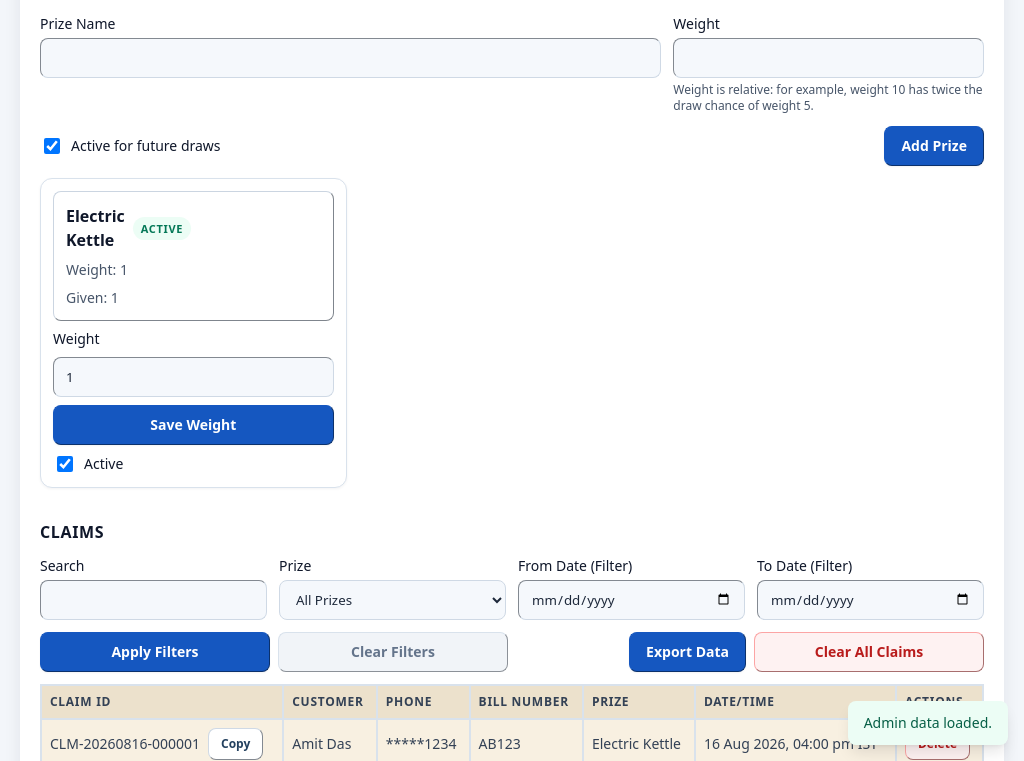
Scenario: admin operations page › shows validation error for invalid inline prize weight save
This screenshot has width=1024, height=761.
(page scrolled)
Replace the text in the 2nd number field labelled "Weight" with "0" at (193, 377), box top-left (53, 357), bottom-right (334, 397)
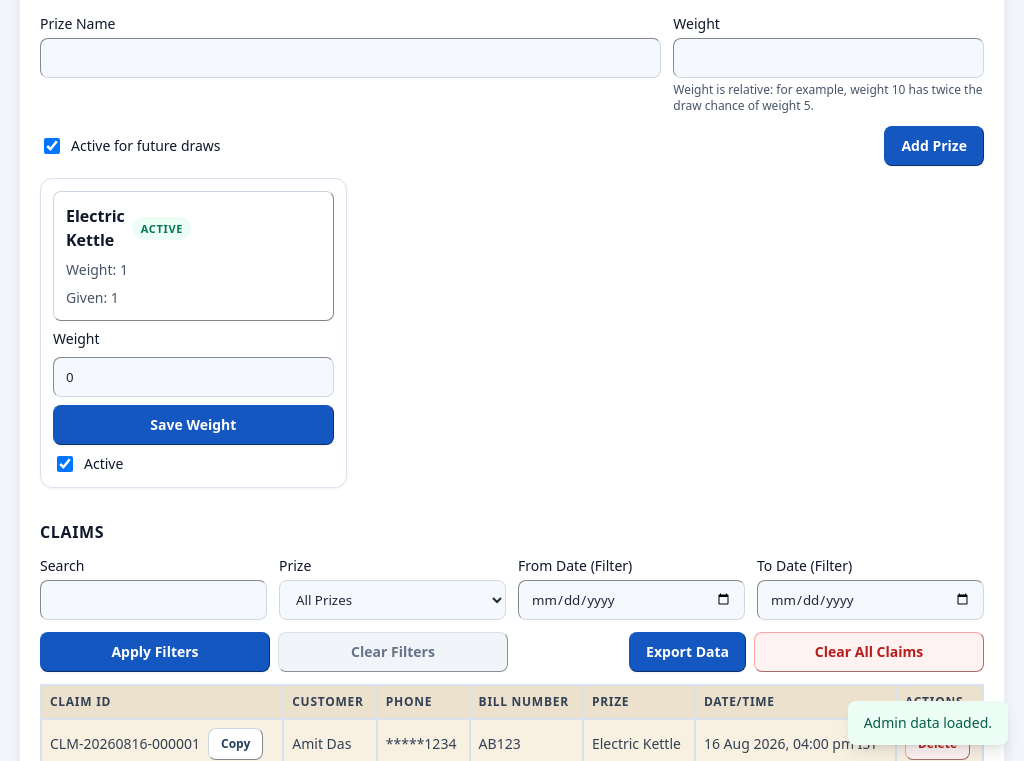
Click the button with aria-label "Save weight for Electric Kettle" at (193, 425), box top-left (53, 405), bottom-right (334, 445)
(page scrolled)
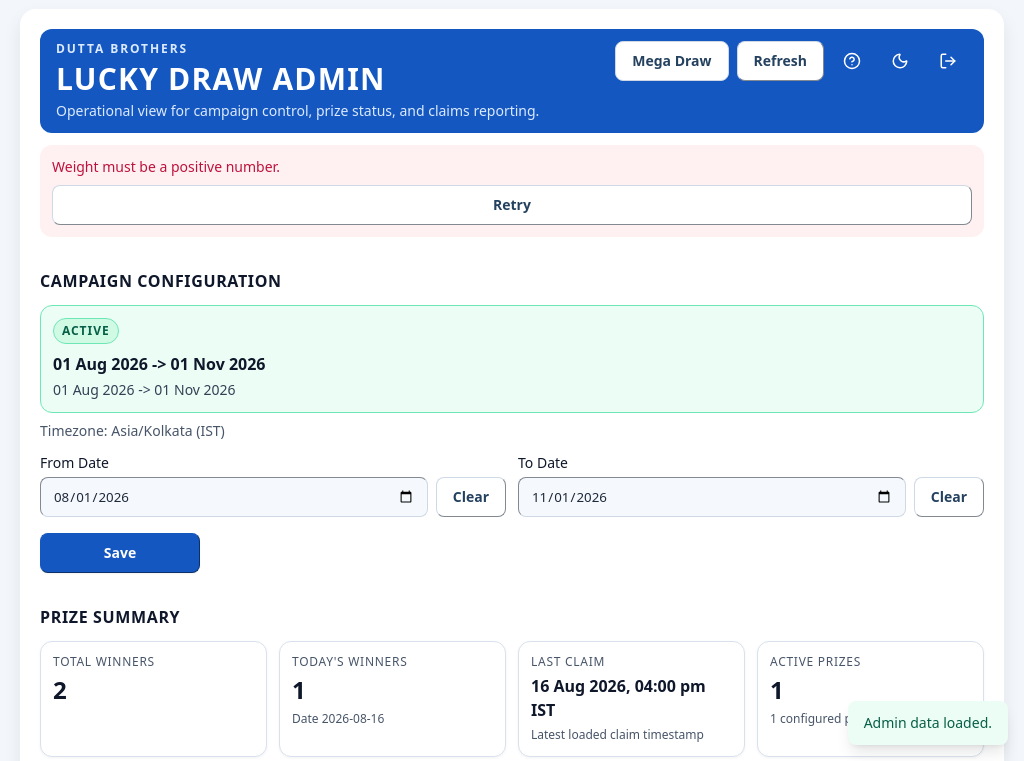
expect the message "Weight must be a positive number. Retry" is shown: met, box top-left (40, 145), bottom-right (984, 237)
